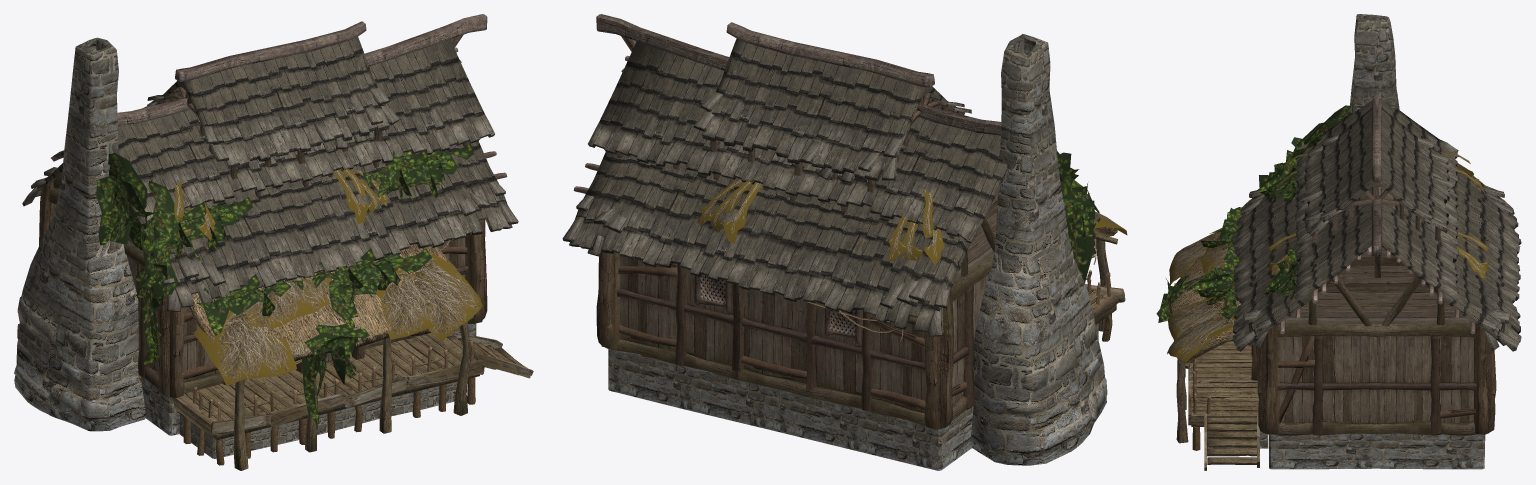
Rendered from House02.FBX.
The picture shows the model from 3 angles, left to right: view 1: azimuth 30°, elevation 25°; view 2: azimuth 150°, elevation 25°; view 3: azimuth 270°, elevation 25°; orthographic projection. The views are drawn at different scales.
Parts seen in each view (by area): view 1: LV_TurtleLake_Lakevillage_House01A_SM_EYE, LV_TurtleLake_Lakevillage_House01C_SM_EYE, LV_TurtleLake_Lakevillage_House01B_SM_EYE, LV_TurtleLake_Lakevillage_House01Ivy_SM_EYE; view 2: LV_TurtleLake_Lakevillage_House01A_SM_EYE, LV_TurtleLake_Lakevillage_House01C_SM_EYE, LV_TurtleLake_Lakevillage_House01B_SM_EYE, LV_TurtleLake_Lakevillage_House01Ivy_SM_EYE; view 3: LV_TurtleLake_Lakevillage_House01A_SM_EYE, LV_TurtleLake_Lakevillage_House01C_SM_EYE, LV_TurtleLake_Lakevillage_House01B_SM_EYE, LV_TurtleLake_Lakevillage_House01Ivy_SM_EYE.
Boxes of the visible parts, x1=… form: LV_TurtleLake_Lakevillage_House01A_SM_EYE: x1=22, y1=14, x2=518, y2=397; LV_TurtleLake_Lakevillage_House01C_SM_EYE: x1=14, y1=37, x2=482, y2=458; LV_TurtleLake_Lakevillage_House01B_SM_EYE: x1=172, y1=240, x2=533, y2=470; LV_TurtleLake_Lakevillage_House01Ivy_SM_EYE: x1=95, y1=144, x2=473, y2=428; LV_TurtleLake_Lakevillage_House01A_SM_EYE: x1=562, y1=14, x2=1100, y2=429; LV_TurtleLake_Lakevillage_House01C_SM_EYE: x1=608, y1=34, x2=1127, y2=470; LV_TurtleLake_Lakevillage_House01B_SM_EYE: x1=694, y1=226, x2=1125, y2=344; LV_TurtleLake_Lakevillage_House01Ivy_SM_EYE: x1=1057, y1=151, x2=1099, y2=282; LV_TurtleLake_Lakevillage_House01A_SM_EYE: x1=1232, y1=92, x2=1521, y2=435; LV_TurtleLake_Lakevillage_House01C_SM_EYE: x1=1167, y1=14, x2=1494, y2=469; LV_TurtleLake_Lakevillage_House01B_SM_EYE: x1=1169, y1=248, x2=1259, y2=470; LV_TurtleLake_Lakevillage_House01Ivy_SM_EYE: x1=1156, y1=105, x2=1350, y2=358.
Bounding box in the file's own units: 379 × 288 × 300.
